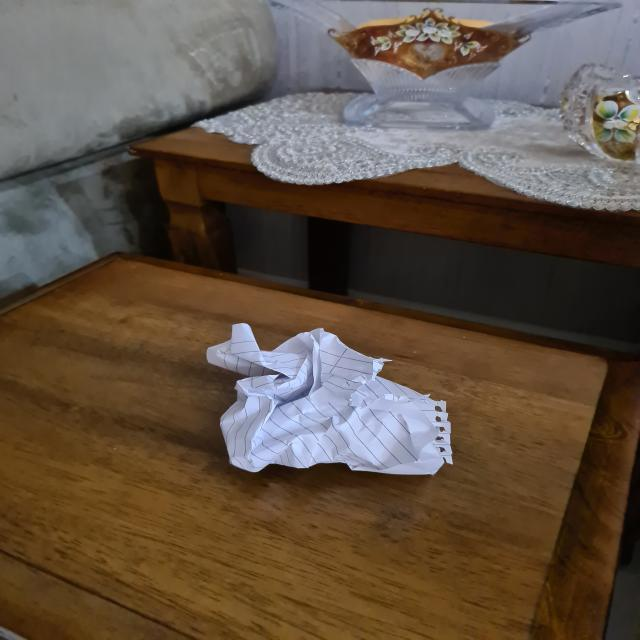Paper: (207, 324, 451, 475)
